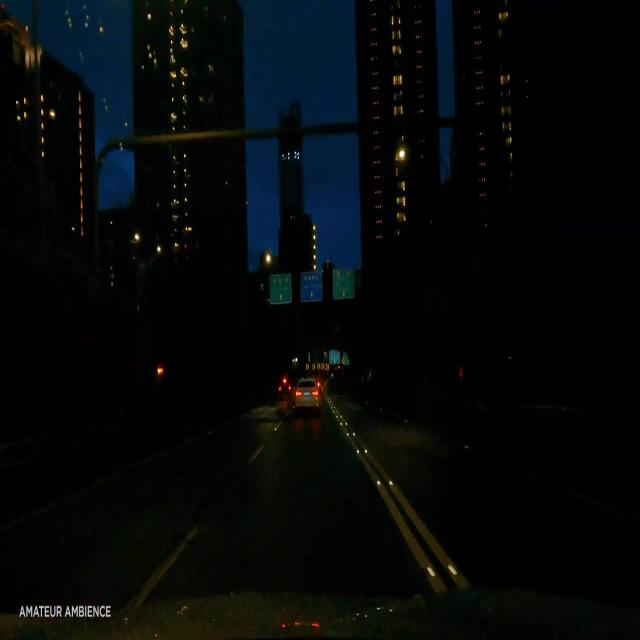Car: (293, 377, 316, 406)
